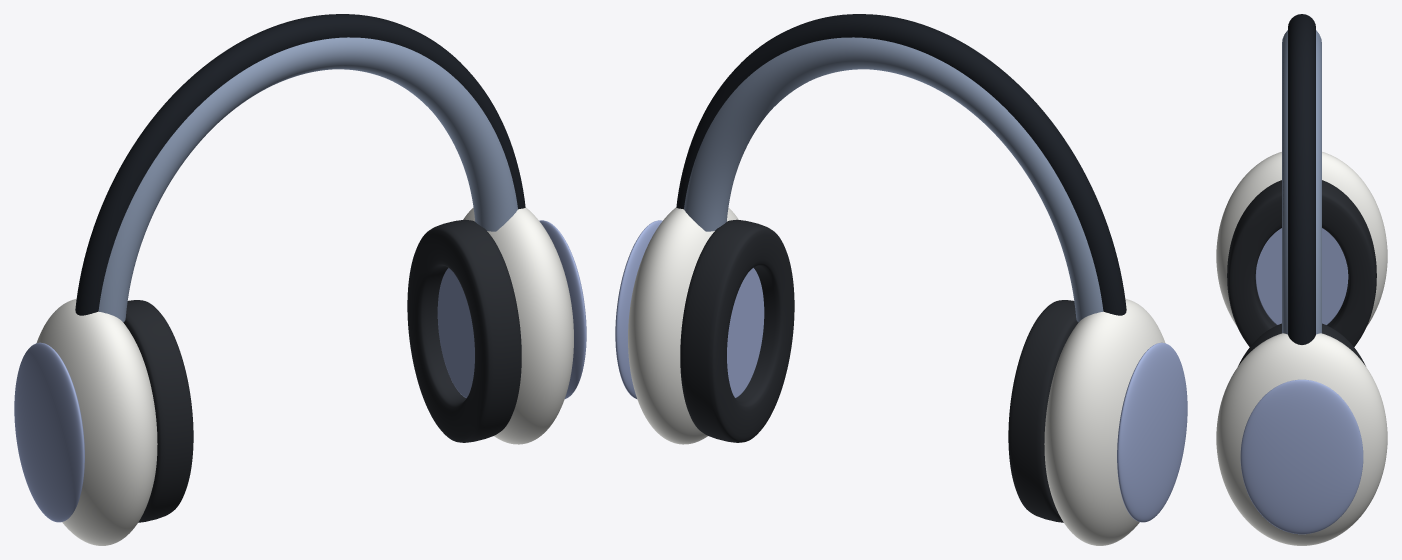
The model's file is over-ear-headphones.glb.
The picture shows the model from 3 angles, left to right: view 1: azimuth 30°, elevation 25°; view 2: azimuth 150°, elevation 25°; view 3: azimuth 270°, elevation 25°; orthographic projection. The views are drawn at different scales.
Parts seen in each view (by area): view 1: smooth-oval-earcup-housing (×2), open-annular-ear-cushion (×2), connected-padded-headband-002, connected-padded-headband-001, fitted-oval-outer-earcup-inlay (×2), recessed-acoustic-cloth; view 2: smooth-oval-earcup-housing (×2), open-annular-ear-cushion (×2), connected-padded-headband-002, connected-padded-headband-001, fitted-oval-outer-earcup-inlay (×2), recessed-acoustic-cloth; view 3: smooth-oval-earcup-housing (×2), fitted-oval-outer-earcup-inlay, open-annular-ear-cushion (×2), connected-padded-headband-001, recessed-acoustic-cloth, connected-padded-headband-002.
Part boxes in pixels (x1,y1,x2,y2): smooth-oval-earcup-housing (×2): [36, 207, 573, 545]; open-annular-ear-cushion (×2): [123, 219, 521, 522]; connected-padded-headband-002: [98, 37, 517, 322]; connected-padded-headband-001: [75, 14, 525, 315]; fitted-oval-outer-earcup-inlay (×2): [14, 220, 586, 522]; recessed-acoustic-cloth: [437, 268, 474, 397]; smooth-oval-earcup-housing (×2): [628, 207, 1165, 545]; open-annular-ear-cushion (×2): [680, 219, 1078, 522]; connected-padded-headband-002: [684, 37, 1103, 322]; connected-padded-headband-001: [676, 14, 1126, 315]; fitted-oval-outer-earcup-inlay (×2): [615, 220, 1187, 522]; recessed-acoustic-cloth: [727, 268, 764, 397]; smooth-oval-earcup-housing (×2): [1216, 152, 1387, 545]; fitted-oval-outer-earcup-inlay: [1240, 379, 1363, 534]; open-annular-ear-cushion (×2): [1227, 180, 1376, 365]; connected-padded-headband-001: [1288, 14, 1315, 344]; recessed-acoustic-cloth: [1255, 228, 1348, 324]; connected-padded-headband-002: [1282, 30, 1321, 334].
Bounding box in the file's own units: 2 × 1.73 × 0.6393.
